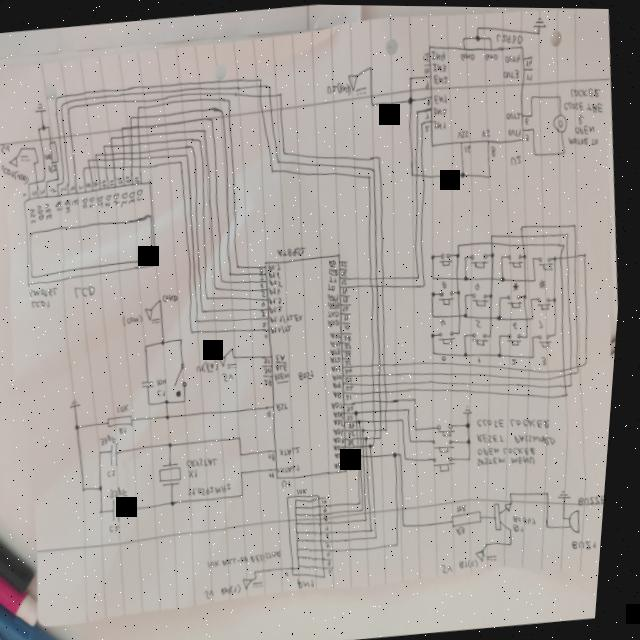capacitor: (116, 497, 129, 522), (113, 441, 126, 466), (144, 376, 160, 388)
crossover: (575, 250, 581, 257), (257, 92, 264, 98), (35, 178, 42, 184), (388, 405, 394, 411), (375, 396, 381, 402), (560, 252, 566, 258), (267, 91, 273, 97), (491, 312, 497, 318), (492, 273, 498, 279), (121, 132, 126, 139), (522, 231, 527, 237), (129, 123, 134, 129), (383, 416, 389, 421), (376, 417, 382, 422), (376, 407, 382, 412), (375, 380, 381, 385), (386, 370, 392, 375), (374, 360, 379, 366), (567, 252, 573, 257), (415, 170, 420, 176), (136, 122, 141, 128), (138, 140, 143, 146), (130, 141, 135, 147), (110, 142, 116, 147), (112, 156, 118, 161), (138, 163, 144, 168), (122, 164, 128, 169), (88, 164, 94, 169), (527, 314, 533, 319), (523, 239, 528, 245), (383, 406, 388, 411), (382, 396, 387, 401), (375, 387, 380, 392), (387, 380, 392, 385), (381, 370, 386, 375), (386, 360, 391, 365), (491, 238, 496, 243), (422, 171, 427, 176), (258, 82, 263, 87), (136, 114, 141, 119), (137, 132, 142, 137), (130, 133, 135, 138), (131, 149, 136, 154), (130, 163, 135, 168), (113, 164, 118, 169), (95, 156, 100, 161), (525, 276, 530, 281), (457, 274, 462, 279), (383, 425, 388, 429), (389, 397, 394, 401), (388, 387, 393, 391), (381, 380, 386, 384), (370, 452, 374, 457), (567, 381, 572, 385), (580, 361, 584, 366), (460, 311, 465, 315), (123, 142, 127, 146), (378, 426, 382, 430), (377, 434, 381, 438), (382, 388, 386, 392), (375, 371, 379, 375), (382, 361, 386, 365), (372, 275, 376, 279), (378, 283, 382, 287), (377, 274, 381, 278), (384, 274, 388, 278), (384, 282, 388, 286), (566, 370, 570, 374), (566, 365, 570, 369), (573, 363, 577, 367), (139, 150, 143, 154), (123, 150, 127, 154), (112, 150, 116, 154), (105, 151, 109, 155), (104, 157, 108, 161), (123, 156, 127, 160), (131, 155, 135, 159), (139, 156, 143, 160), (104, 165, 108, 169), (97, 164, 101, 168), (373, 282, 376, 286), (370, 442, 373, 446), (573, 369, 576, 373), (361, 425, 363, 430), (376, 452, 378, 456), (368, 442, 370, 446), (365, 443, 367, 447), (365, 434, 367, 438), (367, 434, 369, 438), (362, 434, 364, 438), (364, 426, 366, 430), (360, 417, 362, 421), (363, 452, 365, 456), (362, 443, 364, 447), (365, 452, 367, 456), (368, 452, 370, 456)
ground: (530, 14, 546, 27), (33, 100, 49, 113), (73, 396, 87, 409), (465, 401, 479, 414), (563, 487, 578, 497)
junction: (406, 94, 415, 104), (175, 495, 183, 506), (79, 422, 87, 431), (486, 169, 494, 178), (168, 396, 176, 405), (366, 62, 374, 71), (172, 438, 179, 448), (163, 337, 171, 345), (472, 32, 480, 40), (520, 221, 528, 229), (103, 483, 110, 492), (556, 90, 563, 99), (244, 466, 251, 475), (499, 311, 506, 320), (169, 411, 176, 420), (369, 98, 376, 106), (466, 348, 473, 356), (528, 92, 536, 99), (461, 168, 468, 176), (469, 419, 476, 426), (270, 165, 277, 172), (502, 273, 509, 280), (491, 249, 498, 256), (192, 327, 199, 334), (41, 123, 47, 131), (407, 73, 413, 80), (471, 436, 477, 443), (242, 433, 248, 440), (181, 335, 188, 341), (567, 390, 574, 396), (397, 449, 404, 455), (561, 147, 568, 153), (573, 220, 580, 226), (104, 507, 111, 513), (245, 490, 251, 497), (459, 34, 466, 40), (465, 310, 472, 316), (203, 127, 209, 134), (187, 396, 193, 403), (33, 144, 39, 151), (534, 28, 541, 34), (87, 485, 93, 491), (243, 450, 249, 456), (432, 252, 438, 258), (408, 520, 414, 526), (401, 539, 407, 545), (474, 23, 480, 29), (119, 124, 125, 130), (179, 157, 185, 163), (128, 114, 134, 120), (230, 268, 236, 274), (457, 250, 463, 256), (587, 358, 593, 364), (405, 415, 411, 421), (418, 424, 424, 430), (358, 407, 364, 413), (472, 454, 478, 460), (465, 273, 471, 279), (208, 294, 214, 300), (60, 101, 66, 107), (81, 165, 87, 171), (235, 352, 241, 358), (415, 107, 421, 113), (147, 342, 152, 349), (238, 262, 243, 269), (234, 344, 239, 351), (161, 296, 166, 303), (435, 348, 440, 354), (584, 249, 589, 255), (515, 539, 520, 545), (151, 399, 156, 405), (102, 142, 107, 148), (556, 328, 561, 334), (417, 395, 422, 401), (409, 453, 414, 459), (369, 514, 374, 520), (433, 289, 438, 295), (491, 290, 496, 296), (413, 435, 418, 441), (366, 425, 371, 431), (375, 526, 381, 531), (534, 351, 539, 357), (501, 350, 506, 356), (434, 330, 439, 336), (501, 252, 507, 257), (555, 294, 560, 300), (555, 253, 560, 259), (378, 153, 383, 159), (203, 308, 209, 313), (198, 317, 203, 323), (198, 137, 204, 142), (210, 116, 215, 122), (220, 107, 225, 113), (278, 90, 283, 96), (54, 94, 59, 100), (67, 106, 72, 112), (383, 433, 389, 438), (524, 251, 529, 257), (526, 291, 531, 297), (492, 330, 497, 336), (491, 539, 496, 545), (42, 176, 47, 182), (62, 178, 67, 184), (20, 145, 25, 151), (37, 125, 42, 131), (486, 33, 491, 39), (103, 448, 108, 454), (533, 149, 538, 154), (551, 488, 556, 493), (136, 104, 141, 109), (267, 83, 272, 88), (372, 166, 377, 171), (411, 405, 416, 410), (403, 450, 408, 455), (373, 441, 378, 446), (369, 434, 374, 439), (363, 498, 368, 503), (528, 331, 533, 336), (459, 288, 464, 293), (535, 275, 540, 280), (563, 240, 568, 245), (567, 229, 572, 234), (458, 241, 463, 246), (530, 110, 535, 115), (531, 124, 536, 129), (368, 173, 373, 178), (190, 143, 195, 148), (226, 97, 231, 102), (258, 76, 263, 81), (389, 425, 394, 430), (466, 331, 471, 336), (465, 253, 470, 258), (46, 124, 51, 129), (534, 332, 538, 337), (362, 417, 366, 422), (501, 332, 506, 336), (434, 311, 439, 315), (460, 328, 465, 332), (532, 294, 536, 299), (580, 367, 584, 372), (216, 284, 221, 288), (33, 160, 37, 165), (420, 119, 424, 124), (87, 157, 91, 161), (95, 152, 99, 156), (110, 135, 114, 139), (411, 170, 415, 174), (377, 441, 381, 445), (381, 533, 385, 537), (534, 314, 538, 318), (501, 293, 505, 297), (434, 273, 438, 277), (425, 281, 429, 285), (534, 254, 538, 258), (492, 231, 496, 235), (277, 159, 281, 163), (283, 149, 287, 153), (574, 380, 578, 384), (223, 277, 227, 281), (186, 152, 190, 156), (260, 568, 264, 572), (57, 176, 61, 180), (37, 159, 41, 163), (552, 521, 555, 525), (367, 506, 370, 510), (467, 291, 470, 295), (420, 273, 423, 277), (515, 489, 518, 493), (568, 513, 571, 517), (262, 574, 265, 578), (29, 181, 32, 185), (47, 179, 50, 183), (58, 182, 60, 186)
resistor: (456, 507, 489, 526), (112, 413, 140, 428), (48, 139, 61, 164)
switch: (176, 361, 194, 387), (436, 453, 462, 471), (437, 434, 461, 452), (471, 249, 493, 267), (440, 420, 462, 436), (508, 249, 527, 267), (441, 327, 461, 344), (473, 289, 493, 306), (473, 329, 493, 345), (440, 287, 458, 304), (509, 290, 527, 307), (540, 252, 557, 269), (510, 329, 526, 344), (538, 293, 554, 308), (440, 249, 456, 264), (540, 331, 556, 346)
terminal: (346, 70, 361, 89), (481, 546, 493, 560), (249, 574, 261, 588), (147, 304, 157, 320), (220, 353, 232, 366), (9, 155, 21, 168)
text: (479, 421, 563, 450), (480, 408, 557, 434), (228, 546, 290, 567), (481, 448, 541, 469), (482, 438, 542, 459), (192, 478, 240, 498), (0, 160, 32, 187), (562, 95, 604, 114), (324, 77, 353, 98), (567, 131, 601, 147), (494, 27, 524, 45), (569, 82, 601, 98), (582, 489, 612, 505), (272, 310, 307, 323), (31, 284, 63, 298), (191, 454, 224, 467), (577, 535, 605, 550), (278, 244, 310, 257), (518, 509, 543, 524), (76, 283, 99, 299), (199, 358, 223, 373), (113, 483, 135, 499), (125, 312, 147, 326), (228, 581, 250, 595), (464, 554, 486, 568), (501, 64, 521, 79), (273, 321, 297, 333), (573, 121, 597, 133), (33, 297, 55, 310), (304, 573, 322, 588), (277, 368, 295, 383), (301, 366, 320, 380), (284, 443, 306, 455), (285, 460, 306, 472), (431, 69, 449, 83), (429, 46, 446, 60), (164, 291, 182, 303), (104, 432, 122, 444), (503, 50, 521, 62), (458, 48, 476, 60), (45, 201, 56, 220), (433, 90, 449, 103), (505, 108, 523, 119), (432, 102, 447, 115), (507, 124, 523, 136), (431, 59, 447, 71), (271, 275, 287, 287), (120, 190, 131, 207), (37, 203, 48, 220), (279, 399, 294, 411), (213, 556, 228, 568), (432, 116, 448, 127), (271, 302, 287, 313), (30, 206, 40, 223), (447, 560, 461, 572), (456, 126, 470, 138), (225, 369, 239, 381), (271, 283, 285, 295), (285, 477, 300, 488), (270, 268, 285, 279), (0, 141, 12, 154), (211, 586, 224, 598), (121, 402, 135, 413), (271, 293, 285, 304), (278, 351, 292, 362), (129, 189, 139, 204), (483, 49, 498, 59), (519, 519, 531, 531), (337, 407, 350, 418), (510, 152, 523, 163), (137, 186, 146, 201), (65, 198, 74, 213), (270, 261, 285, 270), (330, 290, 342, 301), (330, 264, 342, 275), (160, 386, 172, 397), (47, 162, 59, 173), (337, 424, 350, 434), (337, 415, 350, 425), (330, 298, 343, 308), (105, 193, 115, 206), (490, 142, 499, 156), (337, 433, 351, 442), (335, 398, 349, 407), (330, 317, 344, 326), (115, 522, 129, 531), (279, 361, 293, 370), (461, 522, 472, 533), (193, 466, 204, 477), (481, 126, 492, 137), (540, 275, 550, 287), (114, 190, 122, 205), (98, 193, 106, 208), (543, 351, 552, 364), (338, 441, 351, 450), (333, 353, 346, 362), (56, 198, 65, 211), (112, 467, 122, 478), (269, 406, 278, 418), (462, 501, 474, 510), (339, 449, 351, 458), (335, 371, 347, 380), (334, 362, 346, 371), (333, 345, 345, 354), (333, 337, 345, 346), (333, 328, 345, 337), (160, 376, 172, 385), (330, 308, 343, 316), (578, 110, 586, 123), (90, 195, 98, 208), (83, 195, 91, 208), (337, 387, 347, 397), (514, 279, 523, 290), (302, 485, 314, 493), (272, 450, 281, 460), (513, 354, 522, 364), (477, 316, 486, 326), (336, 378, 346, 387), (329, 281, 339, 290), (330, 257, 340, 266), (464, 141, 473, 151), (123, 424, 133, 433), (72, 196, 82, 205), (524, 55, 533, 65), (268, 376, 277, 386), (339, 459, 350, 467), (331, 273, 340, 282), (45, 151, 54, 160), (525, 70, 534, 79), (117, 174, 125, 184), (421, 51, 429, 61), (266, 365, 276, 373), (290, 567, 298, 576), (424, 122, 432, 131), (479, 352, 487, 361), (442, 315, 450, 324), (476, 279, 484, 288), (352, 453, 361, 461), (346, 332, 355, 340), (343, 268, 351, 277), (32, 188, 40, 197), (40, 186, 48, 195), (102, 177, 110, 186), (134, 174, 142, 183), (125, 174, 133, 183), (109, 176, 117, 185), (424, 77, 430, 89), (267, 354, 275, 363), (351, 437, 361, 444), (50, 186, 60, 193), (423, 63, 430, 73), (273, 469, 281, 477), (352, 419, 360, 427), (344, 285, 352, 293), (444, 278, 451, 287), (352, 445, 361, 452), (352, 428, 361, 435), (350, 403, 359, 410), (349, 382, 358, 389), (349, 374, 358, 381), (348, 365, 357, 372), (347, 341, 356, 348), (61, 183, 68, 192), (541, 316, 547, 326), (515, 319, 522, 327), (351, 412, 359, 419), (348, 357, 356, 364), (348, 349, 356, 356), (345, 303, 353, 310), (345, 293, 352, 301), (343, 277, 351, 284), (86, 180, 94, 187), (94, 179, 102, 186), (423, 110, 430, 118), (263, 288, 270, 296), (264, 319, 272, 326), (524, 114, 530, 123), (331, 539, 338, 546), (354, 462, 361, 469), (349, 392, 356, 399), (347, 321, 354, 328), (346, 312, 353, 319), (343, 259, 350, 266), (23, 190, 30, 197), (70, 184, 77, 191), (79, 183, 86, 190), (327, 496, 334, 503), (525, 130, 530, 139), (329, 513, 335, 520), (331, 531, 337, 538), (444, 352, 451, 358), (328, 504, 334, 511), (426, 97, 431, 105), (333, 558, 339, 564), (333, 549, 338, 556), (264, 299, 269, 306), (264, 309, 269, 316), (267, 331, 272, 338), (335, 567, 340, 573), (331, 522, 336, 528), (261, 266, 266, 272), (262, 273, 267, 279), (262, 281, 267, 287)
transistor: (498, 497, 522, 529)
